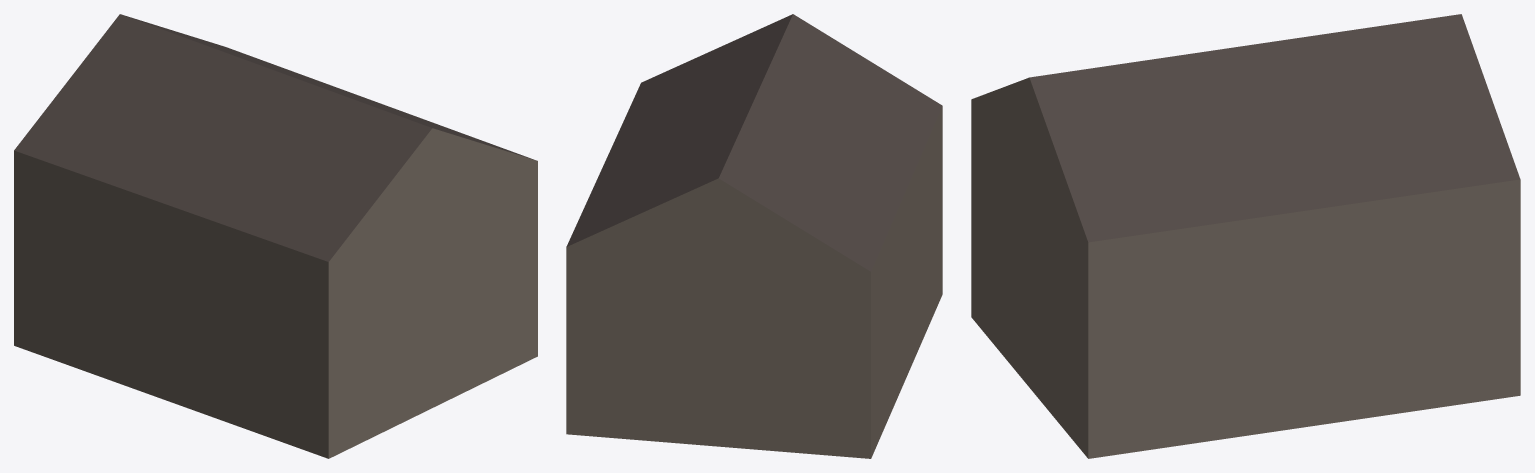
3 views of the same model, side by side, from view 1: azimuth 30°, elevation 25°; view 2: azimuth 150°, elevation 25°; view 3: azimuth 270°, elevation 25° (orthographic). The views are drawn at different scales.
Visible parts, largest first — view 1: HP-w1198645063; view 2: HP-w1198645063; view 3: HP-w1198645063.
Part boxes in pixels (left/top/right/bottom): HP-w1198645063: left=14, top=14, right=537, bottom=458; HP-w1198645063: left=566, top=14, right=942, bottom=458; HP-w1198645063: left=971, top=14, right=1520, bottom=458.
Size of the model in its own units: 12.28 by 8.6 by 13.8.
